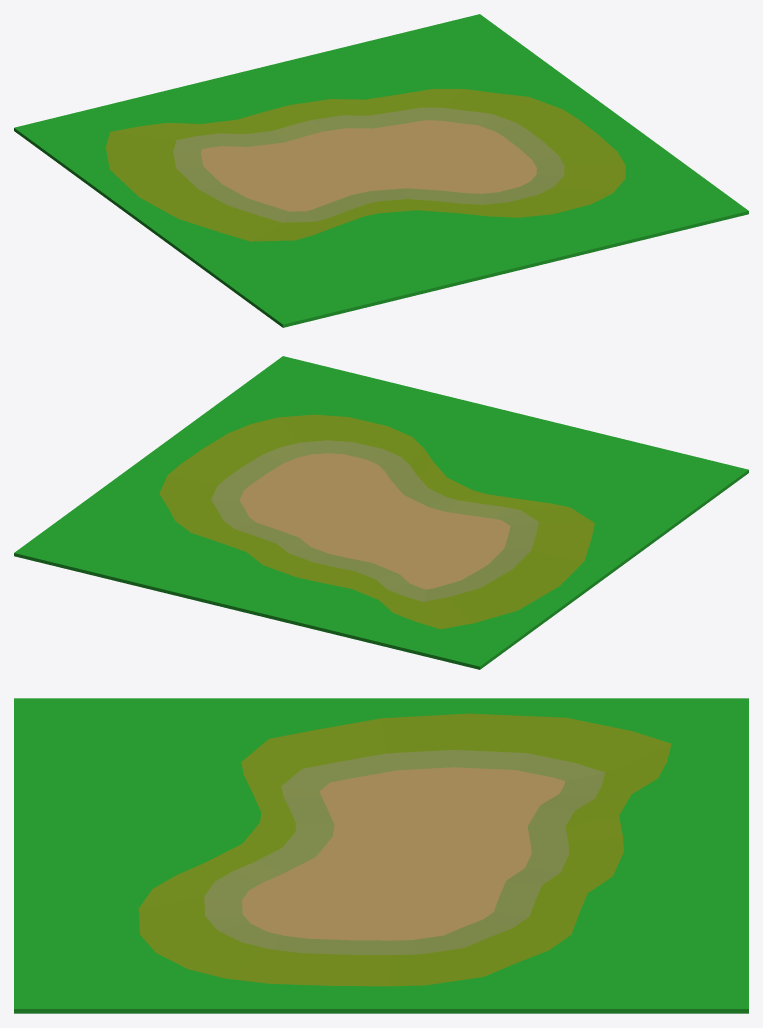
File: map 숲.FBX
3 views of the same model, one above another, from view 1: azimuth 30°, elevation 25°; view 2: azimuth 150°, elevation 25°; view 3: azimuth 270°, elevation 25° (orthographic). The views are drawn at different scales.
Visible parts, largest first — view 1: Object001; view 2: Object001; view 3: Object001.
Boxes of the visible parts, box(x1,y1,x2,y2) form: Object001: box(14, 14, 748, 327); Object001: box(14, 356, 748, 669); Object001: box(14, 698, 748, 1013).
Size of the model in its own units: 10103 by 10103 by 68.25.
